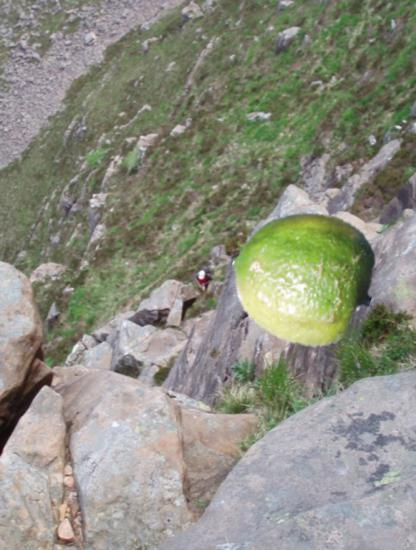Limes: (232, 205, 375, 348)
